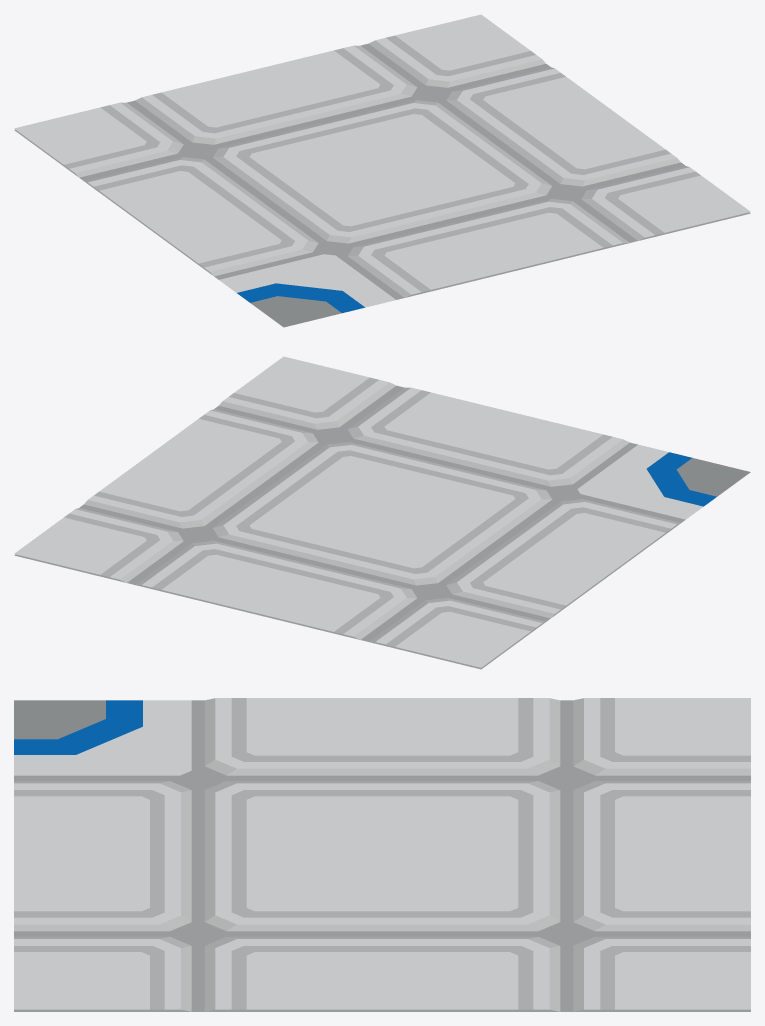
Rendered from Floor_type_A_028.fbx.
The picture shows the model from 3 angles, top to bottom: view 1: azimuth 30°, elevation 25°; view 2: azimuth 150°, elevation 25°; view 3: azimuth 270°, elevation 25°; orthographic projection. The views are drawn at different scales.
Parts seen in each view (by area): view 1: Floor_type_A_028; view 2: Floor_type_A_028; view 3: Floor_type_A_028.
Part boxes in pixels (<box>): Floor_type_A_028: <box>14,14,750,327</box>; Floor_type_A_028: <box>14,356,750,669</box>; Floor_type_A_028: <box>14,698,750,1011</box>.
Bounding box in the file's own units: 400 × 400 × 1.34.
